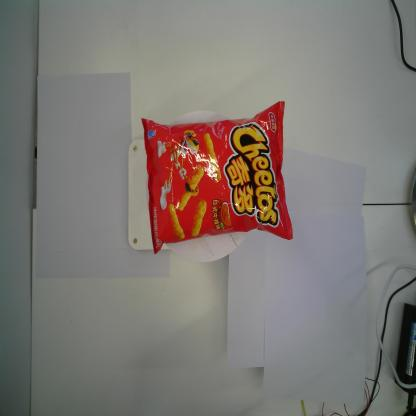Puffed Food: (139, 99, 292, 255)
